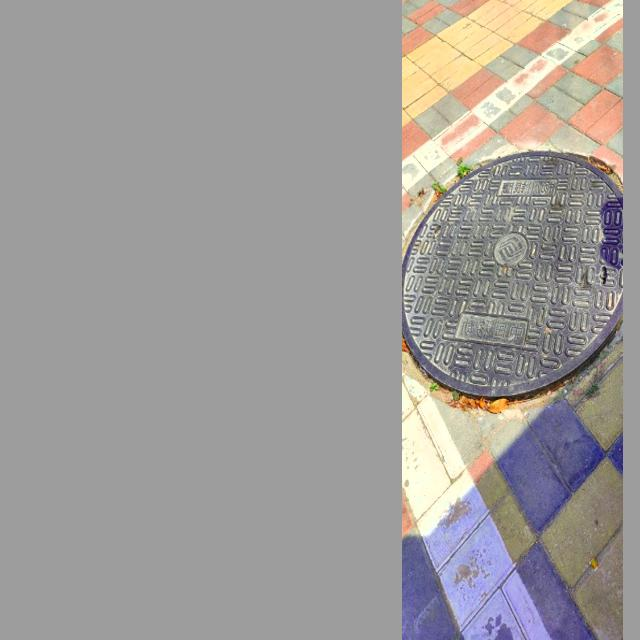good: (404, 150, 623, 400)
